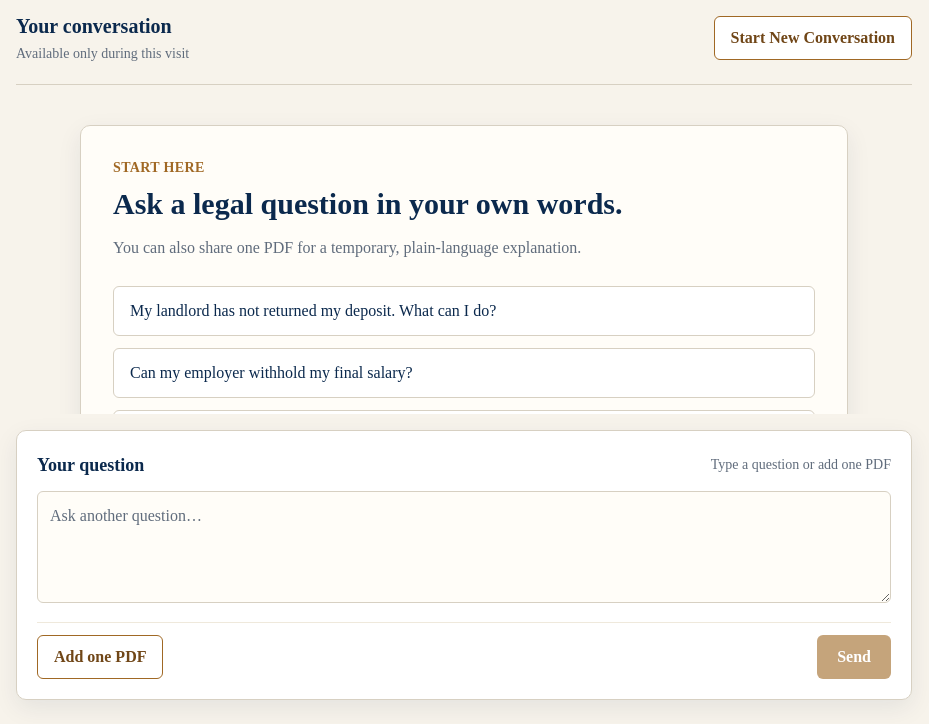
Test case: PublicAsk › renders successful text answers only through the public response adapter
Type "What does this notice mean?" into the text box labelled "Your question" at (464,547), box [37, 491, 891, 603]
Then press Enter
(page scrolled)
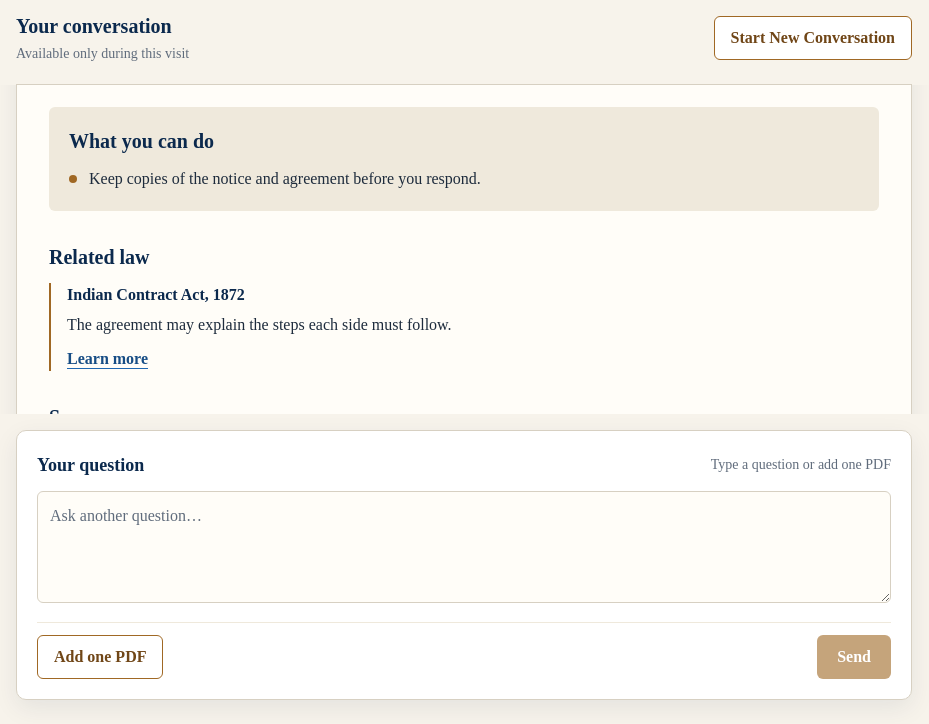
Expected: the element named "Plain-language legal information" shows "What you can do", [69, 130, 214, 152]
Expected: the element named "Plain-language legal information" shows "Indian Contract Act, 1872", [67, 286, 245, 303]
